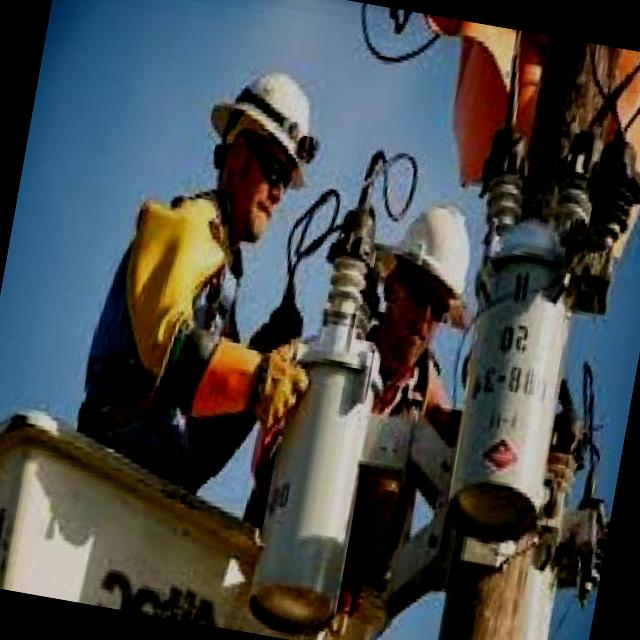gloves: (236, 320, 328, 440)
helmet: (193, 56, 334, 193), (365, 184, 488, 313)
vest: (65, 181, 268, 470)
